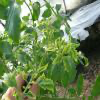Tomato leaf yellow virus: (36, 73, 57, 94), (3, 72, 20, 90), (34, 61, 50, 76), (52, 53, 64, 64), (63, 57, 71, 73), (17, 64, 29, 73), (63, 43, 72, 55), (45, 46, 56, 53), (27, 91, 36, 99), (40, 27, 47, 34)
